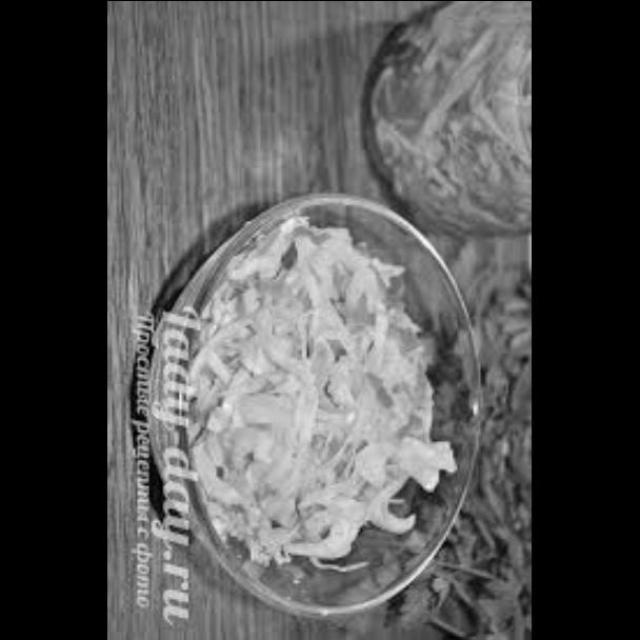ca rot: (360, 362, 400, 415), (335, 292, 385, 333), (413, 362, 440, 423), (393, 318, 426, 356), (278, 557, 318, 584), (285, 225, 330, 248)
cai bap: (192, 220, 456, 591), (366, 0, 533, 253)
